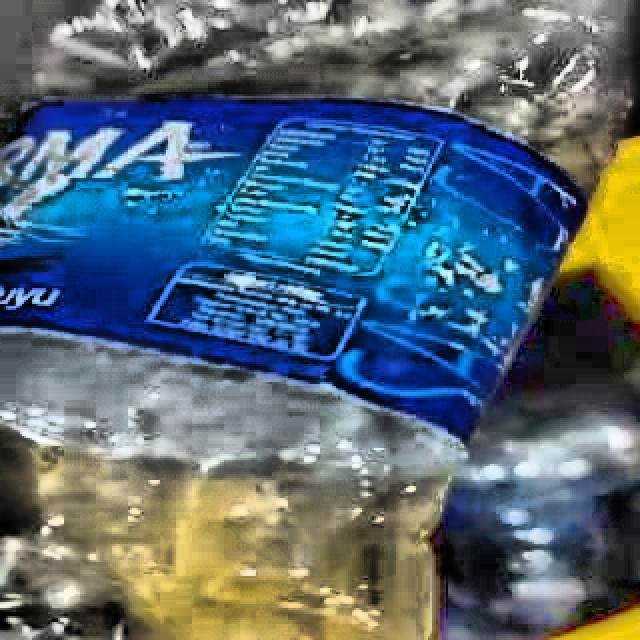plastic: (0, 0, 637, 640)
